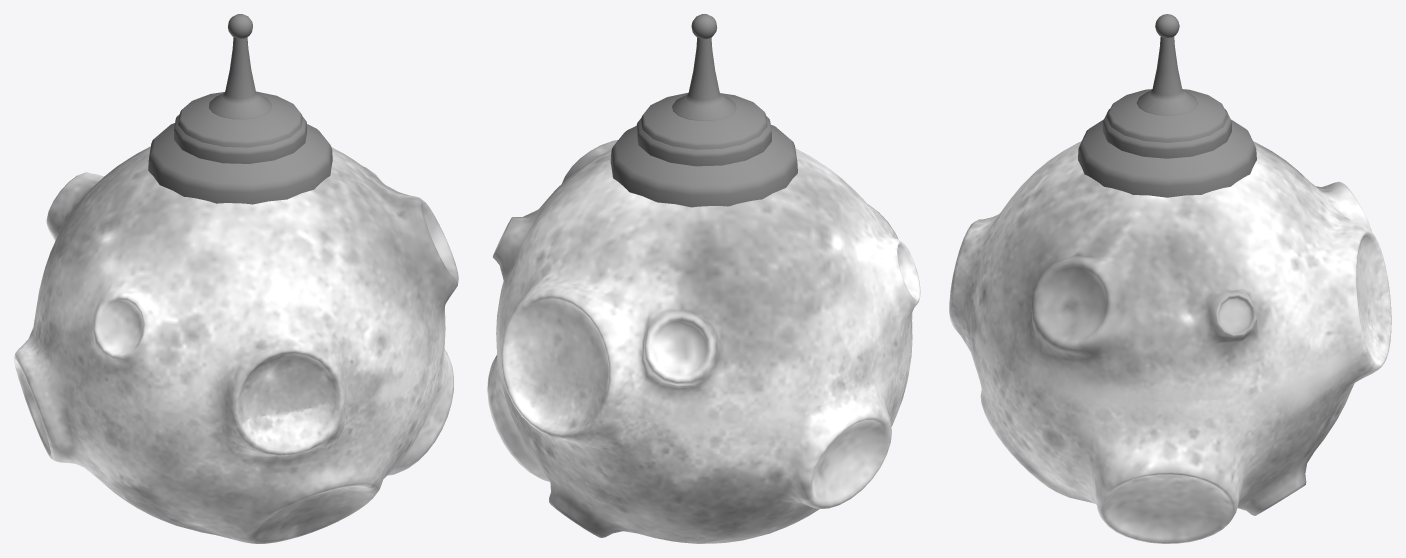
File: IMP_MOON_MODEL.glb
3 renders of one model, left to right at view 1: azimuth 30°, elevation 25°; view 2: azimuth 150°, elevation 25°; view 3: azimuth 270°, elevation 25°, orthographic. The views are drawn at different scales.
Visible parts, largest first — view 1: MOON_IMP; view 2: MOON_IMP; view 3: MOON_IMP.
Boxes of the visible parts, x1,y1,x2,y2 form: MOON_IMP: [14, 14, 458, 543]; MOON_IMP: [487, 14, 920, 543]; MOON_IMP: [949, 14, 1391, 543].
Size of the model in its own units: 0.2425 by 0.2967 by 0.2464.
Materials: 2 (1 with a texture image).
